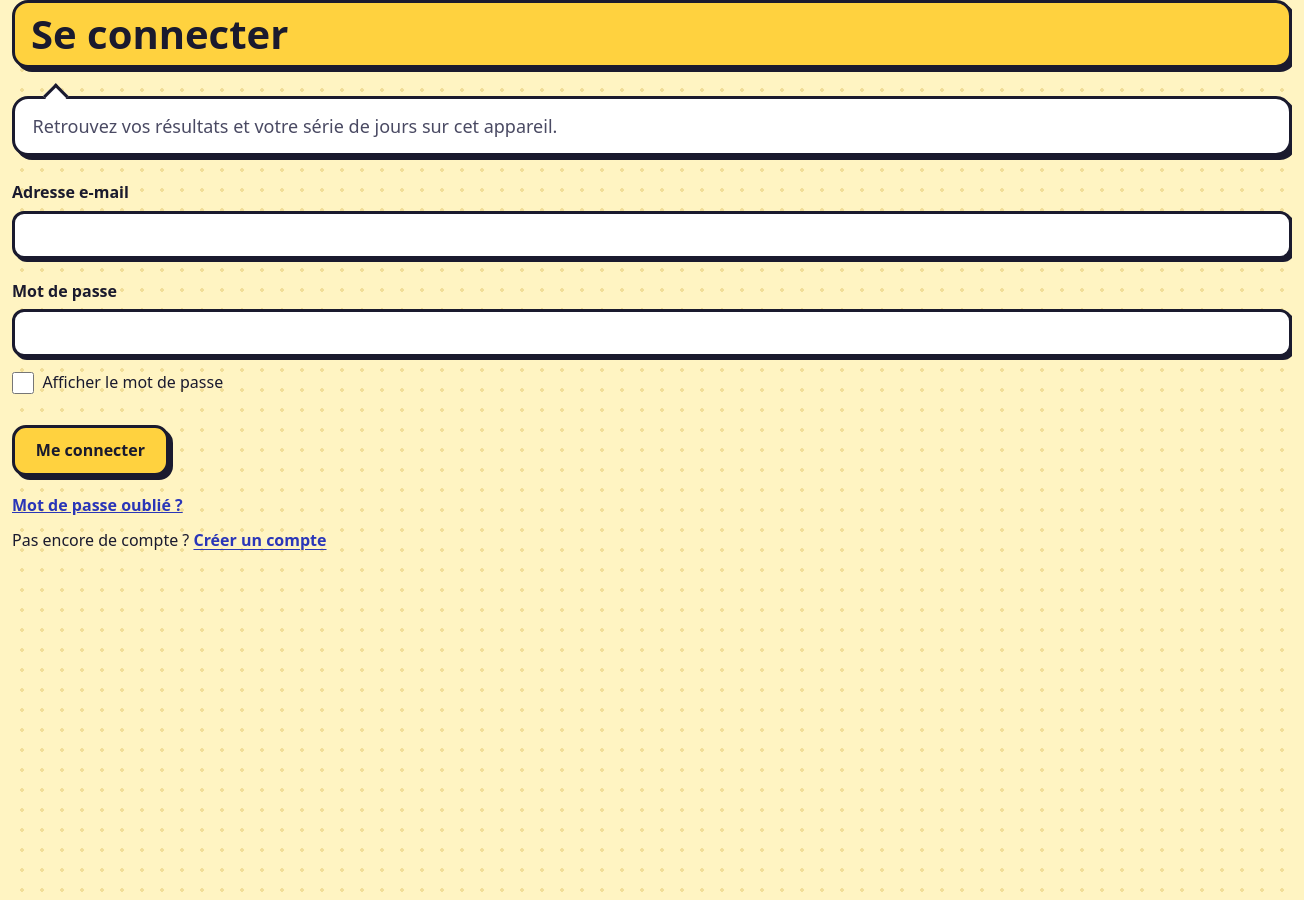
Scenario: AuthFormComponent › signale un e-mail invalide, relie l’erreur au champ et n’appelle pas le service
In the field with id "email": (652, 235) [12, 211, 1292, 259], type "pas-un-email"
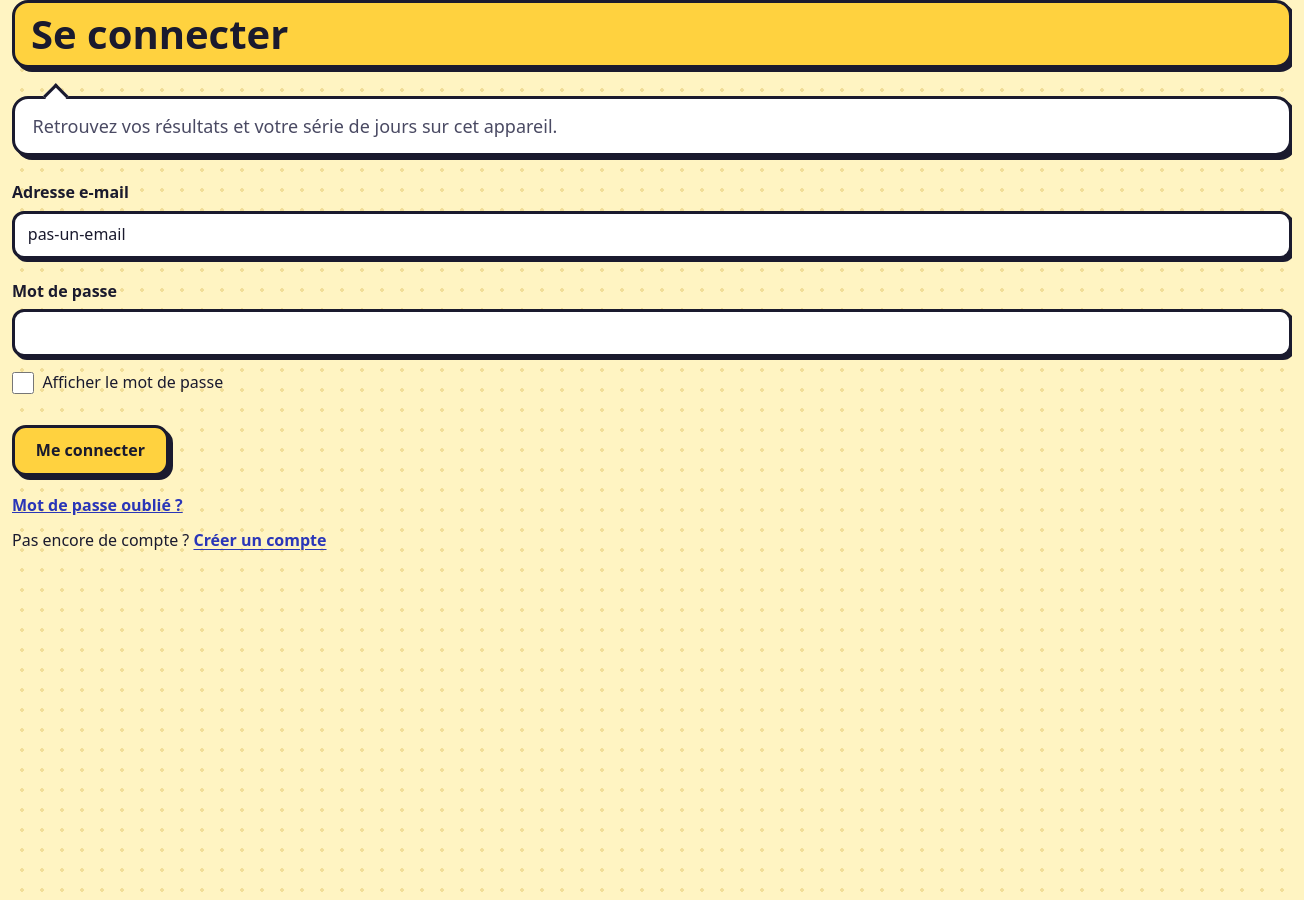
In the password field labelled "Mot de passe": (652, 333) [12, 309, 1292, 357], type "secret"
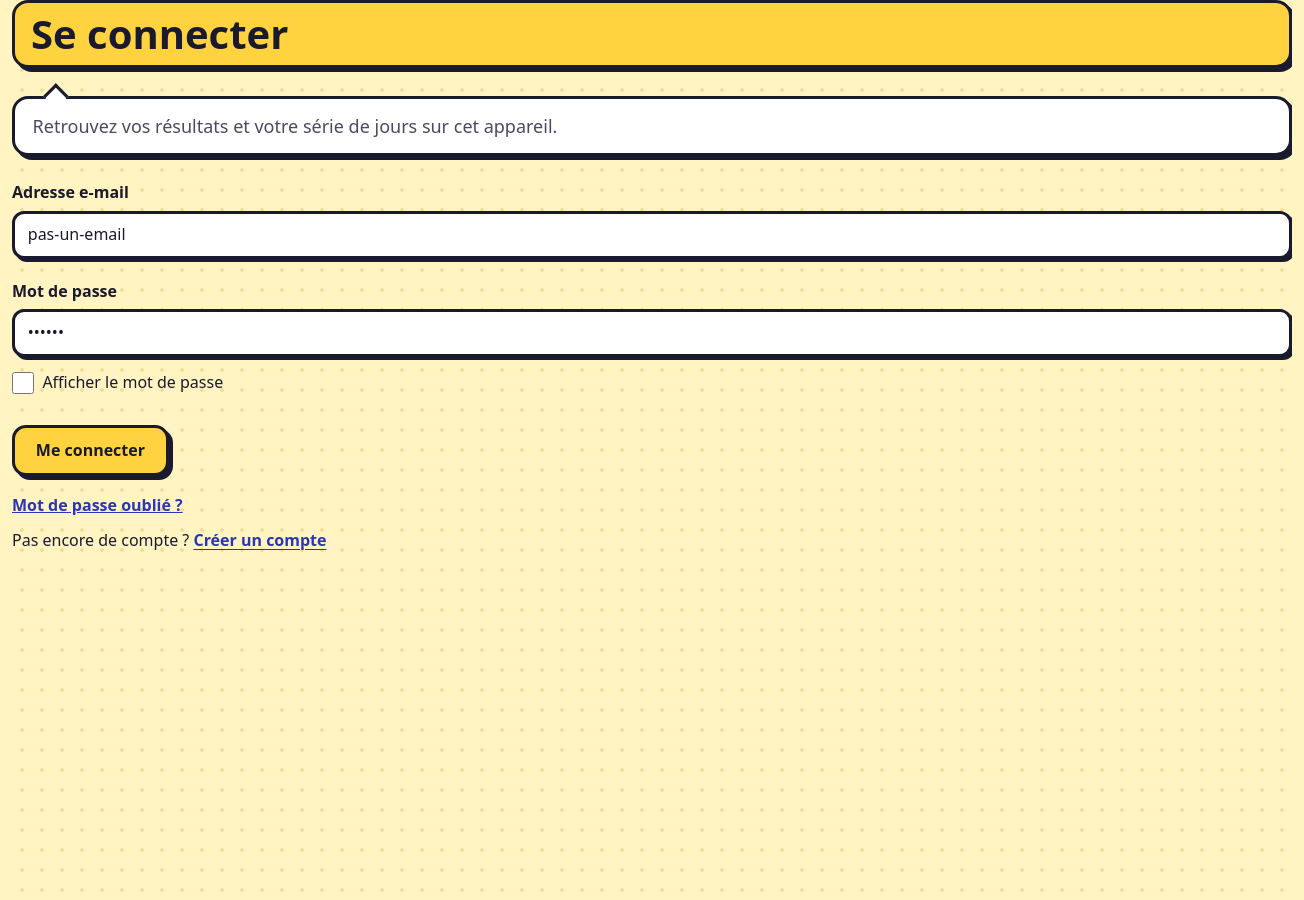
Submit the form, box [12, 180, 1292, 528]
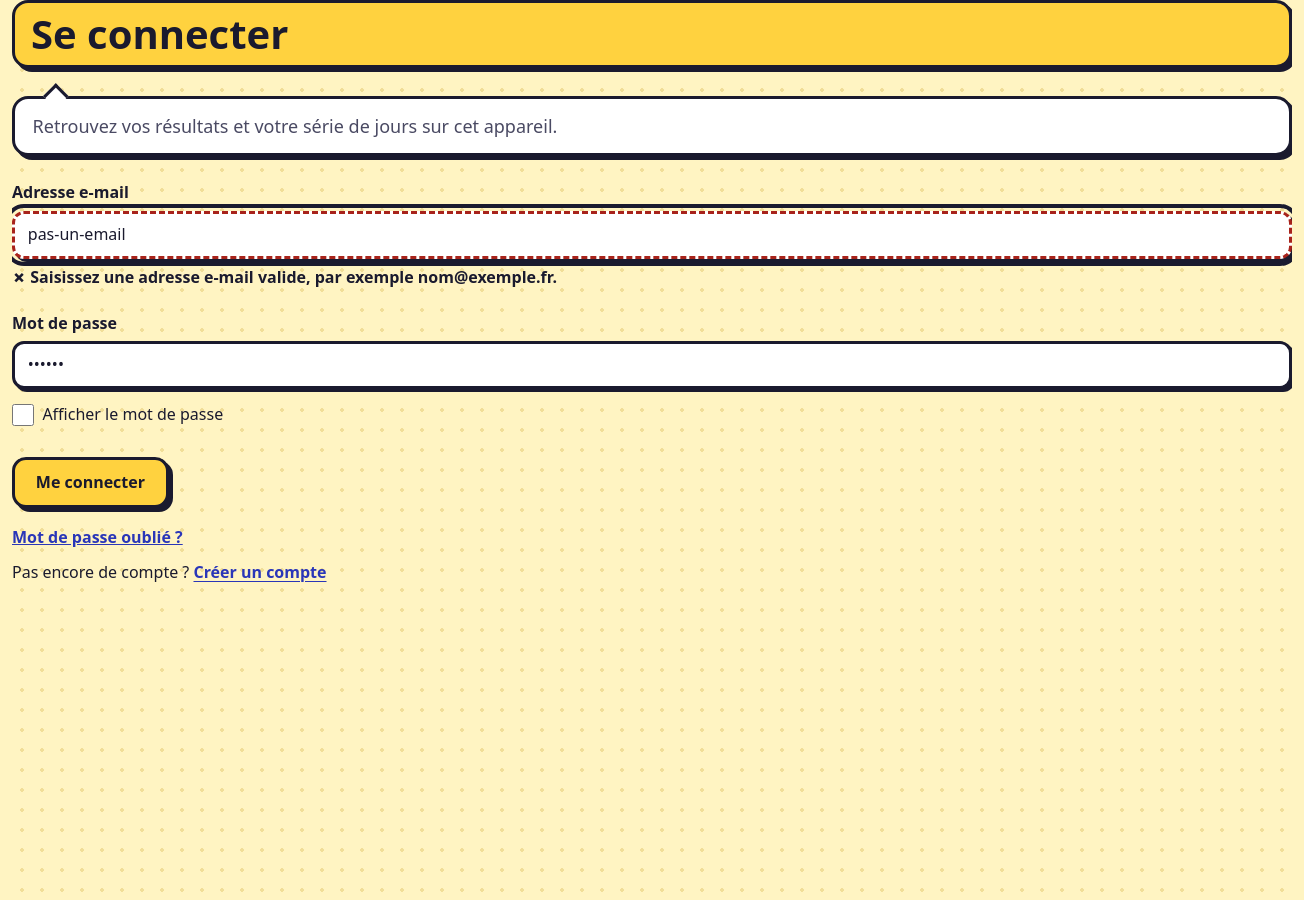
Now the element with id "email-error" shows "adresse e-mail valide", box [26, 266, 557, 288]
